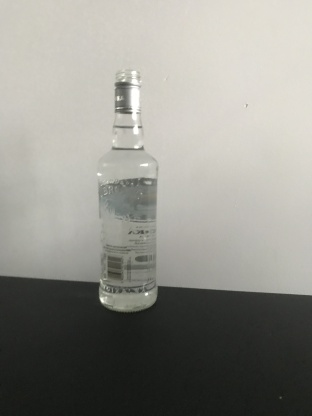nakretka: (112, 66, 143, 116)
